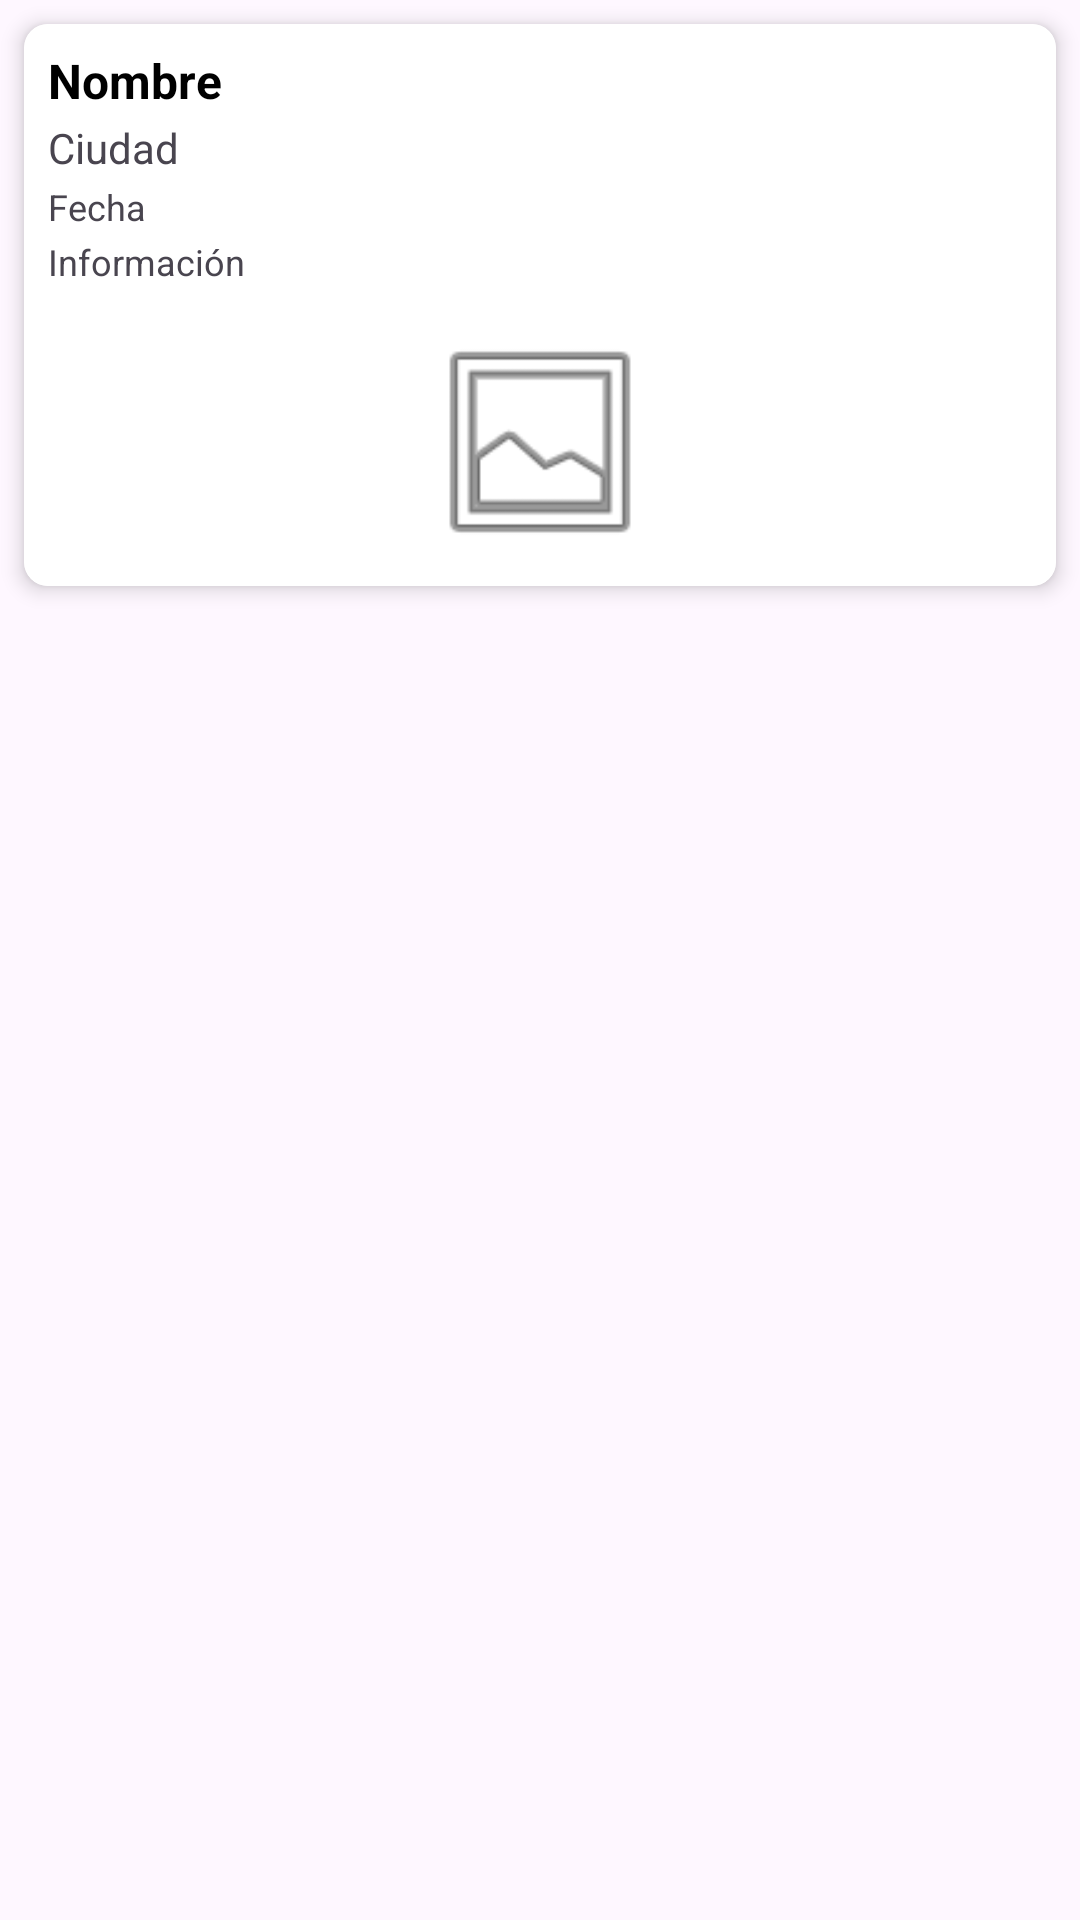

Icons on this 1080px×1920px Android screen, each with its box as (x1=x1, y1=y1, x2=x2, y2=y2):
gallery: (x1=449, y1=351, x2=631, y2=533)
